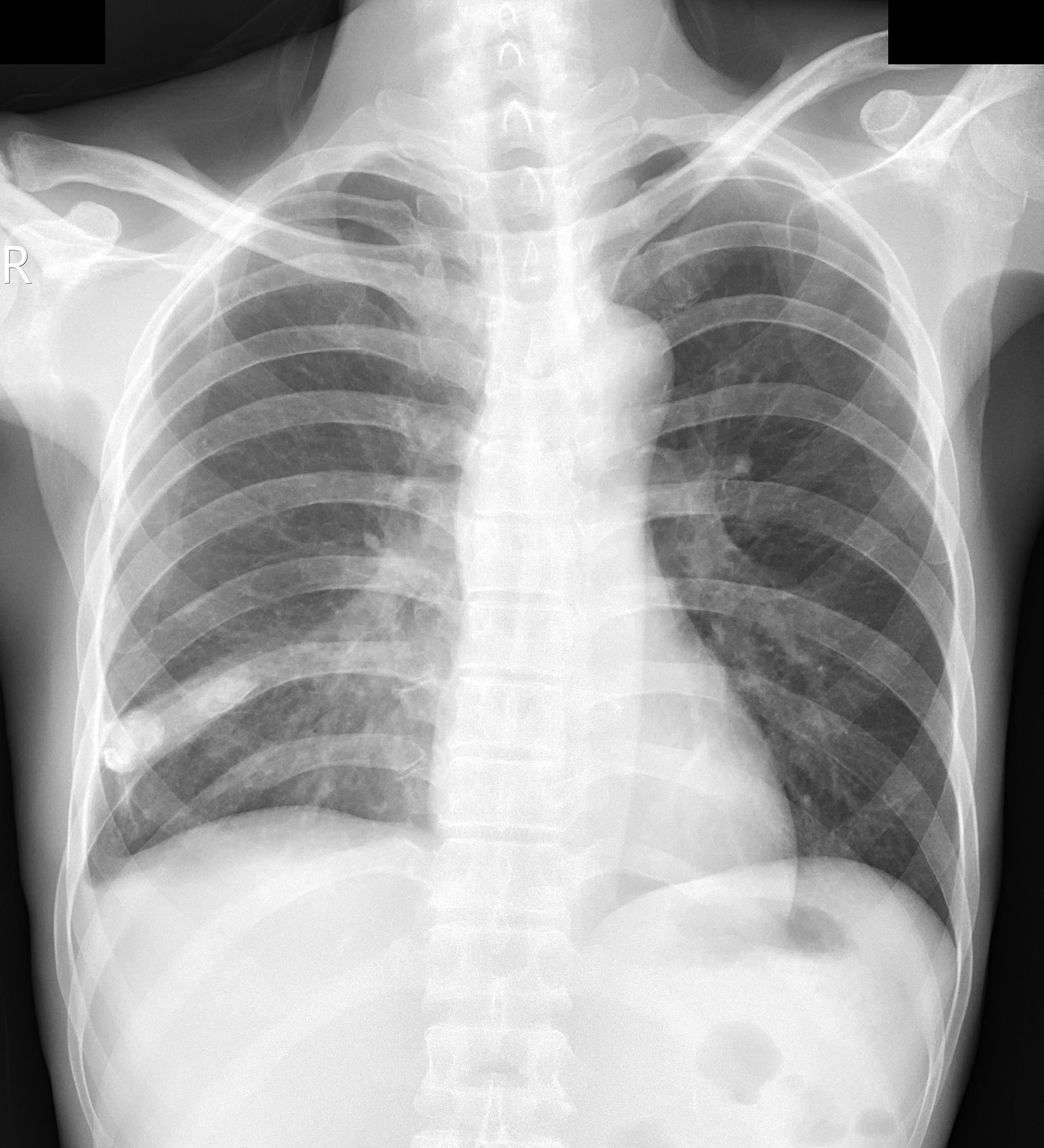Aortic enlargement: (535, 295, 677, 445)
Pleural thickening: (59, 779, 116, 957)
Pulmonary fibrosis: (116, 775, 156, 846)
